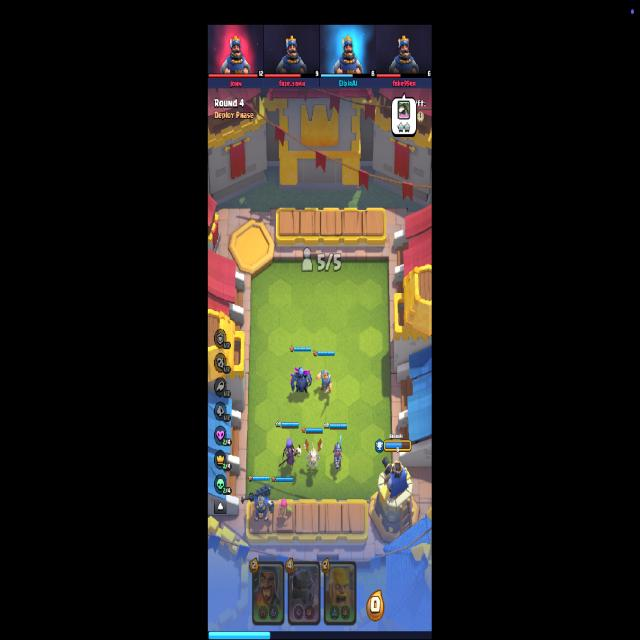archer: (277, 497, 293, 522)
card_barbarian: (323, 560, 357, 627)
card_mega_knight: (288, 560, 320, 626)
card_wizard: (252, 559, 285, 626)
knight: (316, 369, 332, 394)
musketeer: (333, 435, 343, 470)
pekka: (289, 366, 312, 394)
skeleton_dragon: (304, 437, 323, 470)
skeleton_king: (241, 484, 274, 523)
witch: (279, 438, 302, 470)
